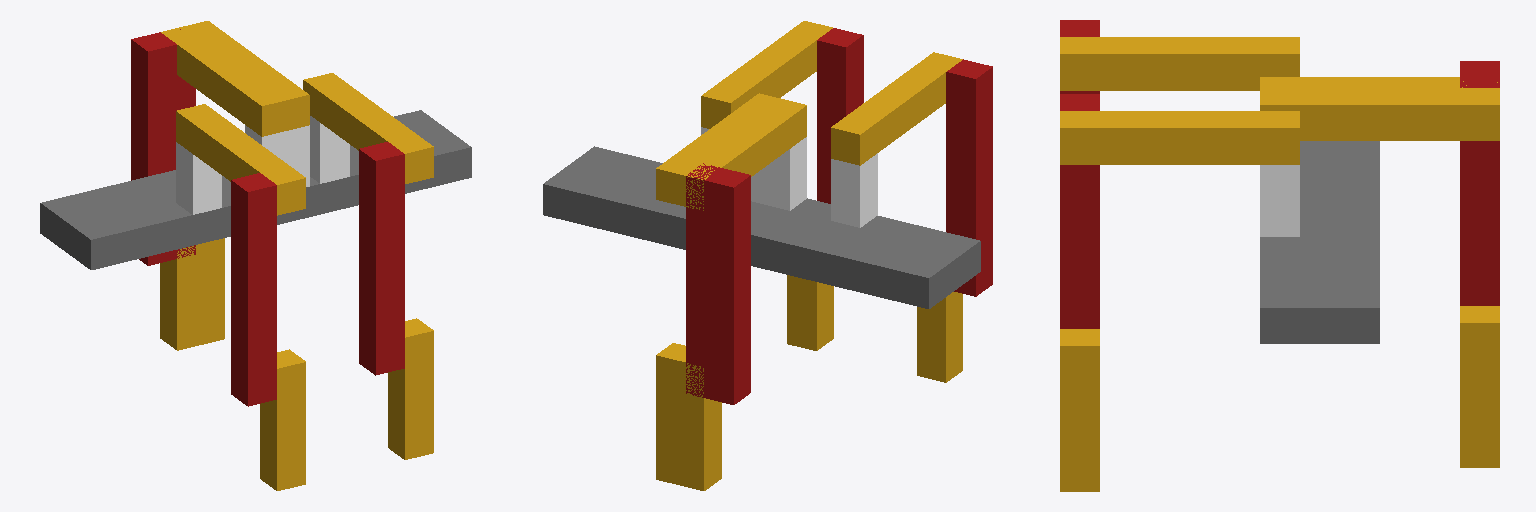
robot.urdf — v0:
<?xml version="1.0" encoding="utf-8"?>
<!-- =================================================================================== -->
<!-- |    This document was autogenerated by xacro from ../robots/v0variants/xacros/v0_4l_30.xacro | -->
<!-- |    EDITING THIS FILE BY HAND IS NOT RECOMMENDED                                 | -->
<!-- =================================================================================== -->
<robot name="v0">
  <material name="grey">
    <color rgba="0.5 0.5 0.5 1"/>
  </material>
  <material name="white">
    <color rgba="1 1 1 1"/>
  </material>
  <material name="yellow">
    <color rgba="0.91 0.7 0.14 1"/>
  </material>
  <material name="red">
    <color rgba="0.71 0.14 0.14 1"/>
  </material>
  <link name="body">
    <visual>
      <geometry>
        <box size="1.3 0.3 0.1"/>
      </geometry>
      <material name="grey"/>
      <origin rpy="0 0 0" xyz="0 0 0.7"/>
    </visual>
    <collision>
      <geometry>
        <box size="1.3 0.3 0.1"/>
      </geometry>
      <origin rpy="0 0 0" xyz="0 0 0.7"/>
    </collision>
    <inertial>
      <mass value="99.84"/>
      <inertia ixx="0.832" ixy="0.0" ixz="0.0" iyy="14.144" iyz="0.0" izz="14.8096"/>
    </inertial>
  </link>
  <link name="l1_segment_1">
    <visual>
      <geometry>
        <box size="0.1 0.1 0.2"/>
      </geometry>
      <material name="white"/>
      <origin rpy="0 0 0" xyz="0 0 0.1"/>
    </visual>
    <collision>
      <geometry>
        <box size="0.1 0.1 0.2"/>
      </geometry>
      <origin rpy="0 0 0" xyz="0 0 0.1"/>
    </collision>
    <inertial>
      <mass value="5.12"/>
      <inertia ixx="0.0213333333333" ixy="0.0" ixz="0.0" iyy="0.0213333333333" iyz="0.0" izz="0.00853333333333"/>
    </inertial>
  </link>
  <joint name="l1_base_to_joint_1" type="fixed">
    <parent link="body"/>
    <child link="l1_segment_1"/>
    <origin rpy="0 0 0" xyz="0.04637259625765833 -0.1 0.75"/>
  </joint>
  <link name="l1_segment_2_HIP">
    <visual>
      <geometry>
        <box size="0.1 0.6 0.1"/>
      </geometry>
      <material name="yellow"/>
      <origin rpy="0 0 0" xyz="0 0.25 0"/>
    </visual>
    <collision>
      <geometry>
        <box size="0.1 0.6 0.1"/>
      </geometry>
      <origin rpy="0 0 0" xyz="0 0.25 0"/>
    </collision>
    <inertial>
      <mass value="15.36"/>
      <inertia ixx="0.4736" ixy="0.0" ixz="0.0" iyy="0.0256" iyz="0.0" izz="0.4736"/>
    </inertial>
  </link>
  <joint name="l1_joint_1_to_2" type="revolute">
    <parent link="l1_segment_1"/>
    <child link="l1_segment_2_HIP"/>
    <origin rpy="0 0 0" xyz="0 0 0.25"/>
    <axis xyz="0.0 0.0 1.0"/>
    <limit effort="2048" lower="-1.2" upper="1.2" velocity="20"/>
  </joint>
  <link name="l1_segment_3_THIGH">
    <visual>
      <geometry>
        <box size="0.1 0.1 0.7"/>
      </geometry>
      <material name="red"/>
      <origin rpy="0 0 0" xyz="0 0 -0.3"/>
    </visual>
    <collision>
      <geometry>
        <box size="0.1 0.1 0.7"/>
      </geometry>
      <origin rpy="0 0 0" xyz="0 0 -0.3"/>
    </collision>
    <inertial>
      <mass value="17.92"/>
      <inertia ixx="0.746666666667" ixy="0.0" ixz="0.0" iyy="0.746666666667" iyz="0.0" izz="0.0298666666667"/>
    </inertial>
  </link>
  <joint name="l1_joint_2_to_3" type="revolute">
    <parent link="l1_segment_2_HIP"/>
    <child link="l1_segment_3_THIGH"/>
    <origin rpy="0 0 0" xyz="-0.1 0.5 0"/>
    <axis xyz="1.0 0.0 0.0"/>
    <limit effort="2048" lower="-0.2" upper="0.75" velocity="20"/>
  </joint>
  <link name="l1_segment_4_FOOT">
    <visual>
      <geometry>
        <box size="0.1 0.1 0.4"/>
      </geometry>
      <material name="yellow"/>
      <origin rpy="0 0 0" xyz="0 0 -0.2"/>
    </visual>
    <collision>
      <geometry>
        <box size="0.1 0.1 0.4"/>
      </geometry>
      <origin rpy="0 0 0" xyz="0 0 -0.2"/>
    </collision>
    <inertial>
      <mass value="10.24"/>
      <inertia ixx="0.145066666667" ixy="0.0" ixz="0.0" iyy="0.145066666667" iyz="0.0" izz="0.0170666666667"/>
    </inertial>
  </link>
  <joint name="l1_joint_3_to_4_FOOT" type="revolute">
    <parent link="l1_segment_3_THIGH"/>
    <child link="l1_segment_4_FOOT"/>
    <origin rpy="0 0 0" xyz="0.1 0 -0.55"/>
    <axis xyz="1.0 0.0 0.0"/>
    <limit effort="2048" lower="-0.2" upper="0.5" velocity="20"/>
  </joint>
  <link name="r2_segment_1">
    <visual>
      <geometry>
        <box size="0.1 0.1 0.2"/>
      </geometry>
      <material name="white"/>
      <origin rpy="0 0 0" xyz="0 0 0.1"/>
    </visual>
    <collision>
      <geometry>
        <box size="0.1 0.1 0.2"/>
      </geometry>
      <origin rpy="0 0 0" xyz="0 0 0.1"/>
    </collision>
    <inertial>
      <mass value="5.12"/>
      <inertia ixx="0.0213333333333" ixy="0.0" ixz="0.0" iyy="0.0213333333333" iyz="0.0" izz="0.00853333333333"/>
    </inertial>
  </link>
  <joint name="r2_base_to_joint_1" type="fixed">
    <parent link="body"/>
    <child link="r2_segment_1"/>
    <origin rpy="0 0 0" xyz="-0.2529776155675963 -0.1 0.75"/>
  </joint>
  <link name="r2_segment_2_HIP">
    <visual>
      <geometry>
        <box size="0.1 0.6 0.1"/>
      </geometry>
      <material name="yellow"/>
      <origin rpy="0 0 0" xyz="0 -0.25 0"/>
    </visual>
    <collision>
      <geometry>
        <box size="0.1 0.6 0.1"/>
      </geometry>
      <origin rpy="0 0 0" xyz="0 -0.25 0"/>
    </collision>
    <inertial>
      <mass value="15.36"/>
      <inertia ixx="0.4736" ixy="0.0" ixz="0.0" iyy="0.0256" iyz="0.0" izz="0.4736"/>
    </inertial>
  </link>
  <joint name="r2_joint_1_to_2" type="revolute">
    <parent link="r2_segment_1"/>
    <child link="r2_segment_2_HIP"/>
    <origin rpy="0 0 0" xyz="0 0 0.25"/>
    <axis xyz="0.0 0.0 1.0"/>
    <limit effort="2048" lower="-1.2" upper="1.2" velocity="20"/>
  </joint>
  <link name="r2_segment_3_THIGH">
    <visual>
      <geometry>
        <box size="0.1 0.1 0.7"/>
      </geometry>
      <material name="red"/>
      <origin rpy="0 0 0" xyz="0 0 -0.3"/>
    </visual>
    <collision>
      <geometry>
        <box size="0.1 0.1 0.7"/>
      </geometry>
      <origin rpy="0 0 0" xyz="0 0 -0.3"/>
    </collision>
    <inertial>
      <mass value="17.92"/>
      <inertia ixx="0.746666666667" ixy="0.0" ixz="0.0" iyy="0.746666666667" iyz="0.0" izz="0.0298666666667"/>
    </inertial>
  </link>
  <joint name="r2_joint_2_to_3" type="revolute">
    <parent link="r2_segment_2_HIP"/>
    <child link="r2_segment_3_THIGH"/>
    <origin rpy="0 0 0" xyz="-0.1 -0.5 0"/>
    <axis xyz="1.0 0.0 0.0"/>
    <limit effort="2048" lower="-0.75" upper="0.2" velocity="20"/>
  </joint>
  <link name="r2_segment_4_FOOT">
    <visual>
      <geometry>
        <box size="0.1 0.1 0.4"/>
      </geometry>
      <material name="yellow"/>
      <origin rpy="0 0 0" xyz="0 0 -0.2"/>
    </visual>
    <collision>
      <geometry>
        <box size="0.1 0.1 0.4"/>
      </geometry>
      <origin rpy="0 0 0" xyz="0 0 -0.2"/>
    </collision>
    <inertial>
      <mass value="10.24"/>
      <inertia ixx="0.145066666667" ixy="0.0" ixz="0.0" iyy="0.145066666667" iyz="0.0" izz="0.0170666666667"/>
    </inertial>
  </link>
  <joint name="r2_joint_3_to_4_FOOT" type="revolute">
    <parent link="r2_segment_3_THIGH"/>
    <child link="r2_segment_4_FOOT"/>
    <origin rpy="0 0 0" xyz="0.1 0 -0.55"/>
    <axis xyz="1.0 0.0 0.0"/>
    <limit effort="2048" lower="-0.5" upper="0.2" velocity="20"/>
  </joint>
  <link name="l3_segment_1">
    <visual>
      <geometry>
        <box size="0.1 0.1 0.2"/>
      </geometry>
      <material name="white"/>
      <origin rpy="0 0 0" xyz="0 0 0.1"/>
    </visual>
    <collision>
      <geometry>
        <box size="0.1 0.1 0.2"/>
      </geometry>
      <origin rpy="0 0 0" xyz="0 0 0.1"/>
    </collision>
    <inertial>
      <mass value="5.12"/>
      <inertia ixx="0.0213333333333" ixy="0.0" ixz="0.0" iyy="0.0213333333333" iyz="0.0" izz="0.00853333333333"/>
    </inertial>
  </link>
  <joint name="l3_base_to_joint_1" type="fixed">
    <parent link="body"/>
    <child link="l3_segment_1"/>
    <origin rpy="0 0 0" xyz="-0.016699362652306093 -0.1 0.75"/>
  </joint>
  <link name="l3_segment_2_HIP">
    <visual>
      <geometry>
        <box size="0.1 0.6 0.1"/>
      </geometry>
      <material name="yellow"/>
      <origin rpy="0 0 0" xyz="0 0.25 0"/>
    </visual>
    <collision>
      <geometry>
        <box size="0.1 0.6 0.1"/>
      </geometry>
      <origin rpy="0 0 0" xyz="0 0.25 0"/>
    </collision>
    <inertial>
      <mass value="15.36"/>
      <inertia ixx="0.4736" ixy="0.0" ixz="0.0" iyy="0.0256" iyz="0.0" izz="0.4736"/>
    </inertial>
  </link>
  <joint name="l3_joint_1_to_2" type="revolute">
    <parent link="l3_segment_1"/>
    <child link="l3_segment_2_HIP"/>
    <origin rpy="0 0 0" xyz="0 0 0.25"/>
    <axis xyz="0.0 0.0 1.0"/>
    <limit effort="2048" lower="-1.2" upper="1.2" velocity="20"/>
  </joint>
  <link name="l3_segment_3_THIGH">
    <visual>
      <geometry>
        <box size="0.1 0.1 0.7"/>
      </geometry>
      <material name="red"/>
      <origin rpy="0 0 0" xyz="0 0 -0.3"/>
    </visual>
    <collision>
      <geometry>
        <box size="0.1 0.1 0.7"/>
      </geometry>
      <origin rpy="0 0 0" xyz="0 0 -0.3"/>
    </collision>
    <inertial>
      <mass value="17.92"/>
      <inertia ixx="0.746666666667" ixy="0.0" ixz="0.0" iyy="0.746666666667" iyz="0.0" izz="0.0298666666667"/>
    </inertial>
  </link>
  <joint name="l3_joint_2_to_3" type="revolute">
    <parent link="l3_segment_2_HIP"/>
    <child link="l3_segment_3_THIGH"/>
    <origin rpy="0 0 0" xyz="-0.1 0.5 0"/>
    <axis xyz="1.0 0.0 0.0"/>
    <limit effort="2048" lower="-0.2" upper="0.75" velocity="20"/>
  </joint>
  <link name="l3_segment_4_FOOT">
    <visual>
      <geometry>
        <box size="0.1 0.1 0.4"/>
      </geometry>
      <material name="yellow"/>
      <origin rpy="0 0 0" xyz="0 0 -0.2"/>
    </visual>
    <collision>
      <geometry>
        <box size="0.1 0.1 0.4"/>
      </geometry>
      <origin rpy="0 0 0" xyz="0 0 -0.2"/>
    </collision>
    <inertial>
      <mass value="10.24"/>
      <inertia ixx="0.145066666667" ixy="0.0" ixz="0.0" iyy="0.145066666667" iyz="0.0" izz="0.0170666666667"/>
    </inertial>
  </link>
  <joint name="l3_joint_3_to_4_FOOT" type="revolute">
    <parent link="l3_segment_3_THIGH"/>
    <child link="l3_segment_4_FOOT"/>
    <origin rpy="0 0 0" xyz="0.1 0 -0.55"/>
    <axis xyz="1.0 0.0 0.0"/>
    <limit effort="2048" lower="-0.2" upper="0.5" velocity="20"/>
  </joint>
  <link name="r4_segment_1">
    <visual>
      <geometry>
        <box size="0.1 0.1 0.2"/>
      </geometry>
      <material name="white"/>
      <origin rpy="0 0 0" xyz="0 0 0.1"/>
    </visual>
    <collision>
      <geometry>
        <box size="0.1 0.1 0.2"/>
      </geometry>
      <origin rpy="0 0 0" xyz="0 0 0.1"/>
    </collision>
    <inertial>
      <mass value="5.12"/>
      <inertia ixx="0.0213333333333" ixy="0.0" ixz="0.0" iyy="0.0213333333333" iyz="0.0" izz="0.00853333333333"/>
    </inertial>
  </link>
  <joint name="r4_base_to_joint_1" type="fixed">
    <parent link="body"/>
    <child link="r4_segment_1"/>
    <origin rpy="0 0 0" xyz="0.18305130090484234 -0.1 0.75"/>
  </joint>
  <link name="r4_segment_2_HIP">
    <visual>
      <geometry>
        <box size="0.1 0.6 0.1"/>
      </geometry>
      <material name="yellow"/>
      <origin rpy="0 0 0" xyz="0 -0.25 0"/>
    </visual>
    <collision>
      <geometry>
        <box size="0.1 0.6 0.1"/>
      </geometry>
      <origin rpy="0 0 0" xyz="0 -0.25 0"/>
    </collision>
    <inertial>
      <mass value="15.36"/>
      <inertia ixx="0.4736" ixy="0.0" ixz="0.0" iyy="0.0256" iyz="0.0" izz="0.4736"/>
    </inertial>
  </link>
  <joint name="r4_joint_1_to_2" type="revolute">
    <parent link="r4_segment_1"/>
    <child link="r4_segment_2_HIP"/>
    <origin rpy="0 0 0" xyz="0 0 0.25"/>
    <axis xyz="0.0 0.0 1.0"/>
    <limit effort="2048" lower="-1.2" upper="1.2" velocity="20"/>
  </joint>
  <link name="r4_segment_3_THIGH">
    <visual>
      <geometry>
        <box size="0.1 0.1 0.7"/>
      </geometry>
      <material name="red"/>
      <origin rpy="0 0 0" xyz="0 0 -0.3"/>
    </visual>
    <collision>
      <geometry>
        <box size="0.1 0.1 0.7"/>
      </geometry>
      <origin rpy="0 0 0" xyz="0 0 -0.3"/>
    </collision>
    <inertial>
      <mass value="17.92"/>
      <inertia ixx="0.746666666667" ixy="0.0" ixz="0.0" iyy="0.746666666667" iyz="0.0" izz="0.0298666666667"/>
    </inertial>
  </link>
  <joint name="r4_joint_2_to_3" type="revolute">
    <parent link="r4_segment_2_HIP"/>
    <child link="r4_segment_3_THIGH"/>
    <origin rpy="0 0 0" xyz="-0.1 -0.5 0"/>
    <axis xyz="1.0 0.0 0.0"/>
    <limit effort="2048" lower="-0.75" upper="0.2" velocity="20"/>
  </joint>
  <link name="r4_segment_4_FOOT">
    <visual>
      <geometry>
        <box size="0.1 0.1 0.4"/>
      </geometry>
      <material name="yellow"/>
      <origin rpy="0 0 0" xyz="0 0 -0.2"/>
    </visual>
    <collision>
      <geometry>
        <box size="0.1 0.1 0.4"/>
      </geometry>
      <origin rpy="0 0 0" xyz="0 0 -0.2"/>
    </collision>
    <inertial>
      <mass value="10.24"/>
      <inertia ixx="0.145066666667" ixy="0.0" ixz="0.0" iyy="0.145066666667" iyz="0.0" izz="0.0170666666667"/>
    </inertial>
  </link>
  <joint name="r4_joint_3_to_4_FOOT" type="revolute">
    <parent link="r4_segment_3_THIGH"/>
    <child link="r4_segment_4_FOOT"/>
    <origin rpy="0 0 0" xyz="0.1 0 -0.55"/>
    <axis xyz="1.0 0.0 0.0"/>
    <limit effort="2048" lower="-0.5" upper="0.2" velocity="20"/>
  </joint>
</robot>

--- What the picture shows (computed from the rendered views, not written in the file) ---
3 views of the same robot in one strip: view 1: azimuth 30°, elevation 25°; view 2: azimuth 150°, elevation 25°; view 3: azimuth 270°, elevation 25° (orthographic).
Model v0 with 17 links and 16 joints (12 revolute, 4 fixed), rooted at body, posed all joints at 0.
Visible links, largest first — view 1: body, r4_segment_3_THIGH, r2_segment_3_THIGH, l3_segment_3_THIGH, r2_segment_2_HIP, r4_segment_2_HIP, l3_segment_2_HIP, r2_segment_4_FOOT, r4_segment_4_FOOT, l3_segment_4_FOOT, l1_segment_2_HIP, l1_segment_4_FOOT (+5 smaller); view 2: body, l3_segment_3_THIGH, r2_segment_3_THIGH, r2_segment_2_HIP, r4_segment_2_HIP, l1_segment_3_THIGH, r4_segment_3_THIGH, l3_segment_2_HIP, l1_segment_4_FOOT, r2_segment_4_FOOT, l3_segment_4_FOOT, l1_segment_2_HIP (+3 smaller); view 3: body, r4_segment_2_HIP, r2_segment_2_HIP, l1_segment_2_HIP, l1_segment_3_THIGH, r4_segment_3_THIGH, r4_segment_4_FOOT, l1_segment_4_FOOT, r4_segment_1, l3_segment_2_HIP, r2_segment_3_THIGH.
Link boxes in pixels (box(x1,y1,x2,y2)): body: box(40, 110, 471, 269); r4_segment_3_THIGH: box(359, 142, 404, 375); r2_segment_3_THIGH: box(231, 173, 276, 406); l3_segment_3_THIGH: box(131, 32, 176, 265); r2_segment_2_HIP: box(176, 104, 305, 215); r4_segment_2_HIP: box(303, 73, 433, 183); l3_segment_2_HIP: box(161, 27, 290, 136); r2_segment_4_FOOT: box(260, 349, 305, 490); r4_segment_4_FOOT: box(388, 318, 433, 459); l3_segment_4_FOOT: box(160, 242, 206, 350); l1_segment_2_HIP: box(181, 21, 309, 131); l1_segment_4_FOOT: box(196, 238, 224, 345); body: box(543, 146, 980, 308); l3_segment_3_THIGH: box(704, 169, 750, 404); r2_segment_3_THIGH: box(946, 59, 992, 296); r2_segment_2_HIP: box(831, 52, 962, 165); r4_segment_2_HIP: box(701, 21, 832, 128); l1_segment_3_THIGH: box(686, 163, 731, 400); r4_segment_3_THIGH: box(817, 28, 863, 203); l3_segment_2_HIP: box(675, 98, 806, 210); l1_segment_4_FOOT: box(656, 343, 685, 486); r2_segment_4_FOOT: box(917, 292, 962, 382); l3_segment_4_FOOT: box(675, 353, 721, 490); l1_segment_2_HIP: box(656, 93, 785, 206); body: box(1260, 141, 1379, 343); r4_segment_2_HIP: box(1060, 111, 1299, 164); r2_segment_2_HIP: box(1060, 37, 1299, 90); l1_segment_2_HIP: box(1260, 88, 1499, 140); l1_segment_3_THIGH: box(1460, 71, 1499, 305); r4_segment_3_THIGH: box(1060, 94, 1099, 328); r4_segment_4_FOOT: box(1060, 329, 1099, 491); l1_segment_4_FOOT: box(1460, 312, 1499, 467); r4_segment_1: box(1260, 165, 1299, 236); l3_segment_2_HIP: box(1260, 77, 1497, 90); r2_segment_3_THIGH: box(1060, 20, 1099, 93).
Size in the robot's own frame: 1.3 by 1.1 by 1 metres.
Geometry: primitives only (box / cylinder / sphere), no mesh files.